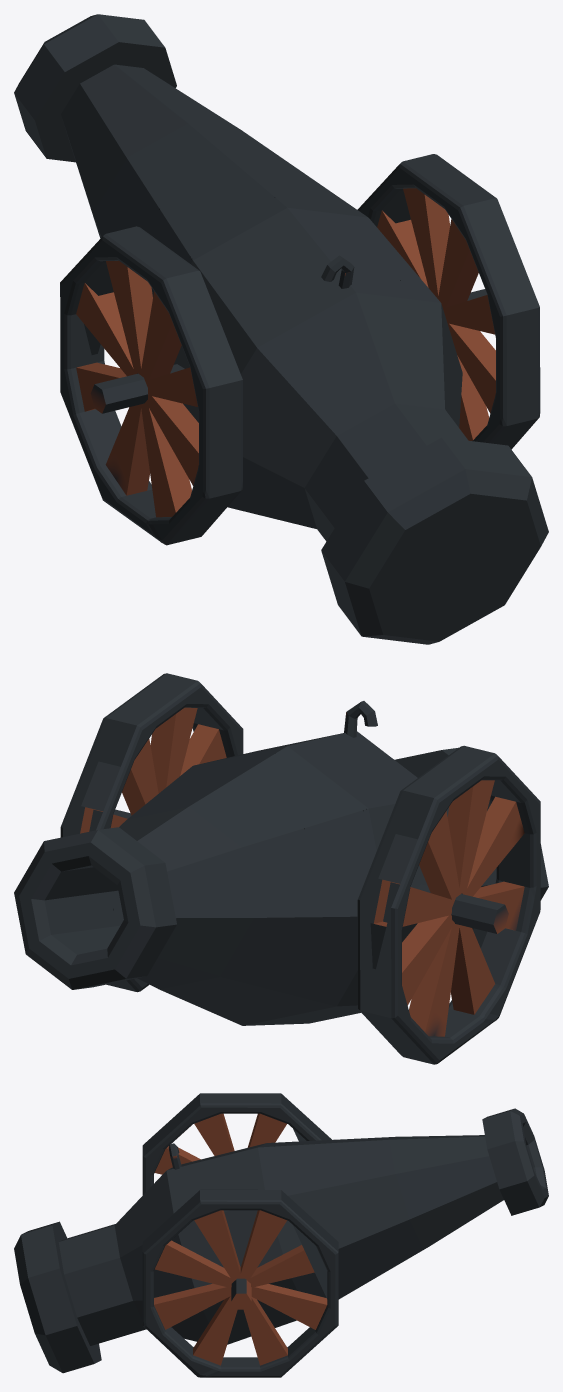
File: Tower_1.fbx
3 views of the same model, one above another, from view 1: azimuth 30°, elevation 25°; view 2: azimuth 150°, elevation 25°; view 3: azimuth 270°, elevation 25° (orthographic). The views are drawn at different scales.
Parts seen in each view (by area): view 1: Cylinder.005, Cylinder.002; view 2: Cylinder.005, Cylinder.002; view 3: Cylinder.005, Cylinder.002.
Part boxes in pixels (x1,y1,x2,y2): Cylinder.005: [14, 14, 548, 644]; Cylinder.002: [60, 154, 540, 545]; Cylinder.005: [14, 701, 548, 1025]; Cylinder.002: [60, 673, 540, 1064]; Cylinder.005: [14, 1108, 548, 1373]; Cylinder.002: [142, 1093, 338, 1377].
Size of the model in its own units: 401 by 370 by 693.
1 material, 1 textured.
